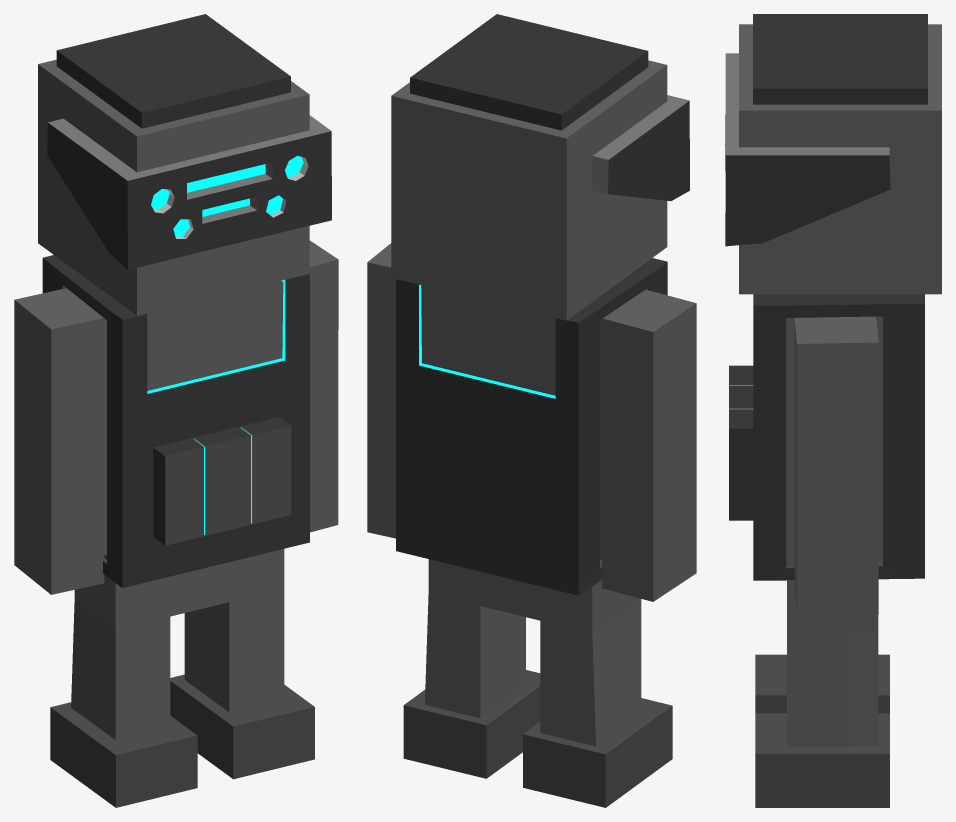
3 renders of one model, left to right at view 1: azimuth 30°, elevation 25°; view 2: azimuth 150°, elevation 25°; view 3: azimuth 270°, elevation 25°, orthographic. The views are drawn at different scales.
Visible parts, largest first — view 1: CH_B; view 2: CH_B; view 3: CH_B.
Part boxes in pixels (box(x1,y1,x2,y2)): CH_B: box(14, 14, 338, 807); CH_B: box(367, 14, 696, 807); CH_B: box(725, 14, 941, 807).
Bounding box in the file's own units: 63.94 × 147 × 40.77.
